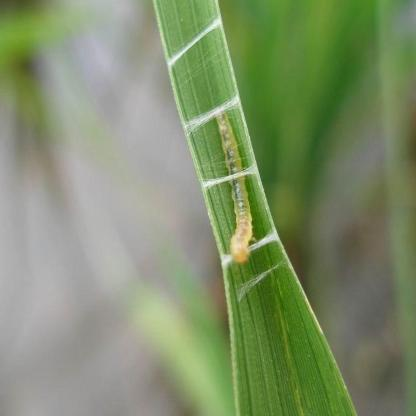leaf-folder: (209, 98, 261, 268)
